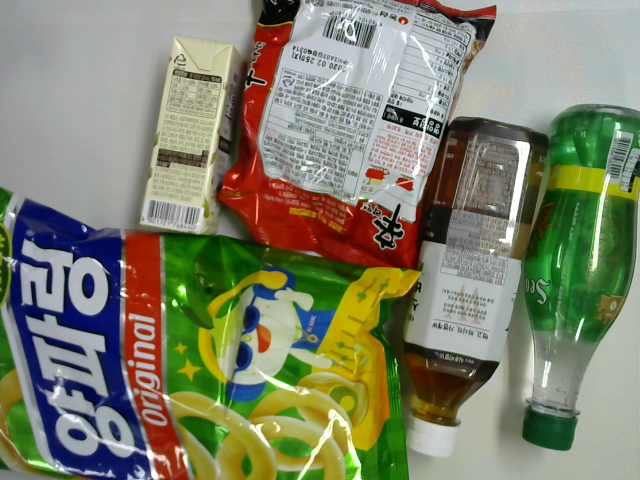99.89_Soymilk: (136, 33, 250, 236)
Oninon_Ring: (1, 184, 426, 479)
Post-meal_recipe_W_tea_500ml: (402, 114, 551, 461)
Seagram_Lemon_Carbonated_Water: (522, 101, 640, 454)
Sinramen: (216, 1, 498, 272)
